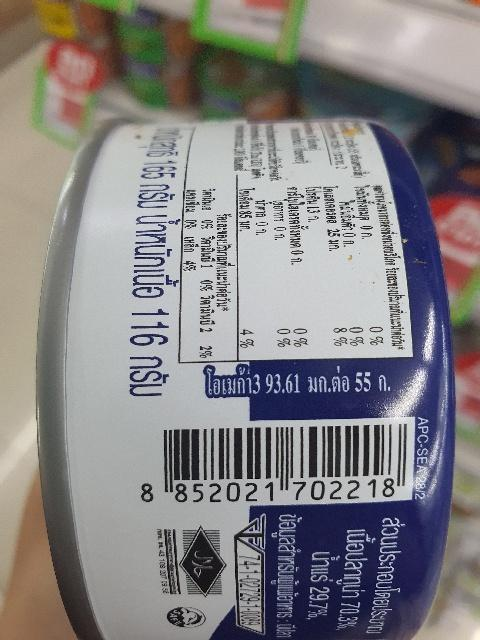Barcode: (134, 423, 415, 509)
